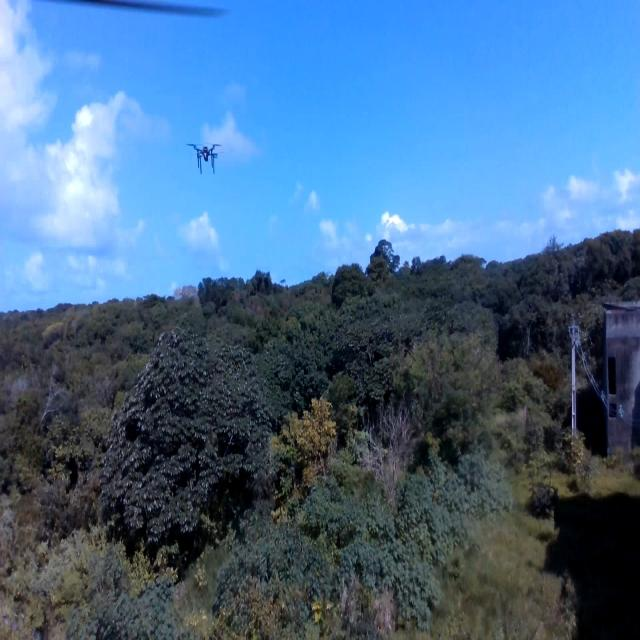-uav-: (184, 132, 226, 181)
